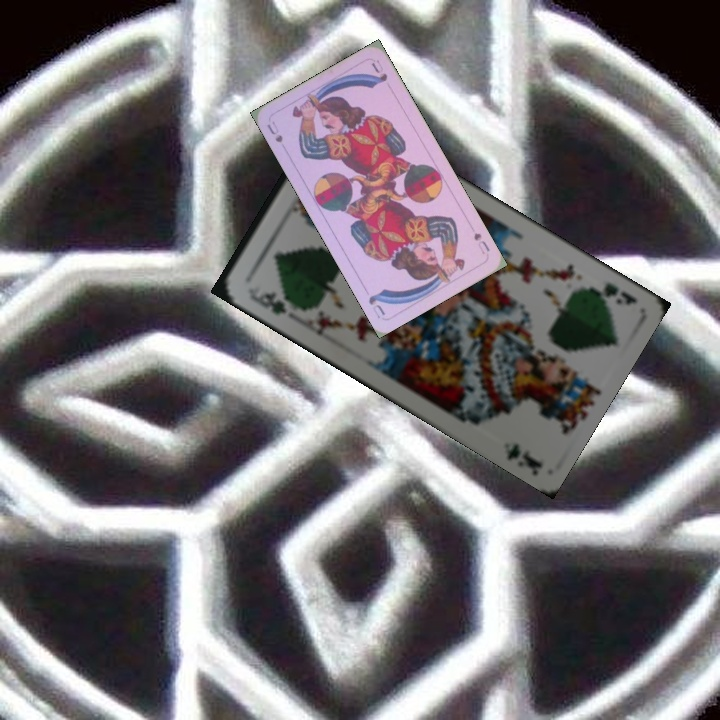GK: (581, 278, 640, 308), (247, 286, 290, 318)
SU: (263, 117, 286, 145), (470, 228, 492, 257)
